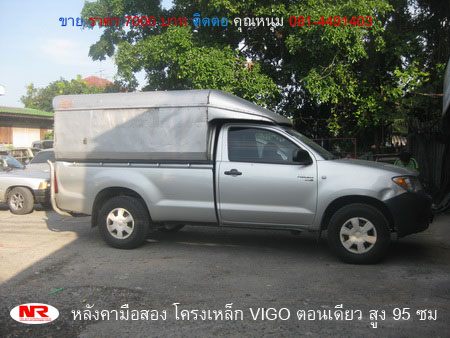pickup: (49, 120, 440, 267)
